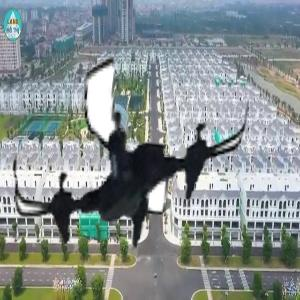drone: (13, 48, 244, 279)
